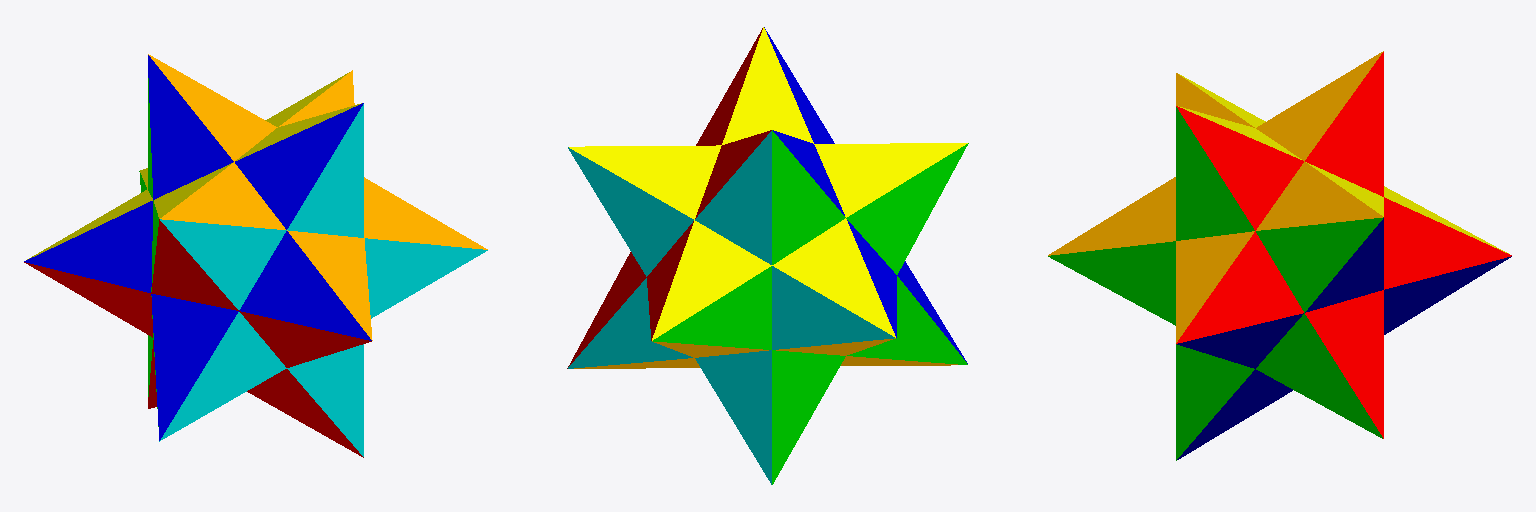
File: pde.obj
The picture shows the model from 3 angles: view 1: azimuth 30°, elevation 25°; view 2: azimuth 150°, elevation 25°; view 3: azimuth 270°, elevation 25°; orthographic projection.
Parts seen in each view (by area): view 1: pde1; view 2: pde1; view 3: pde1.
Boxes of the visible parts, x1,y1,x2,y2 form: pde1: [24, 54, 487, 457]; pde1: [567, 27, 968, 484]; pde1: [1048, 51, 1511, 460].
Size of the model in its own units: 3.4 by 3.2 by 3.8.